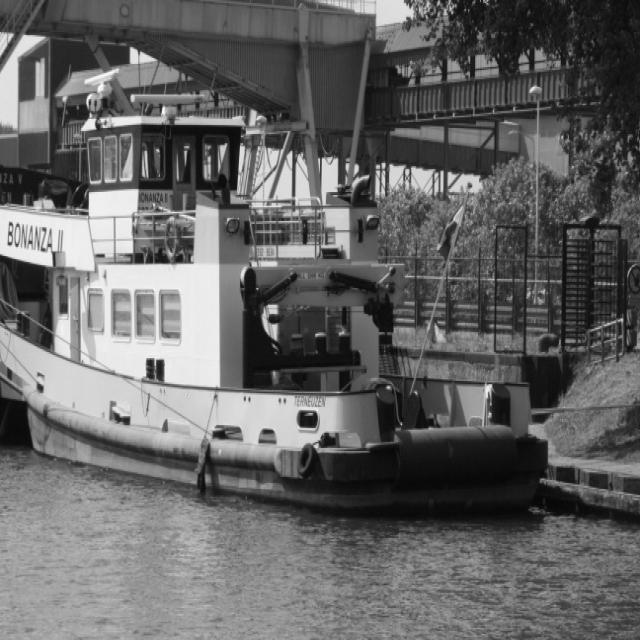tugboat: (1, 25, 556, 530)
